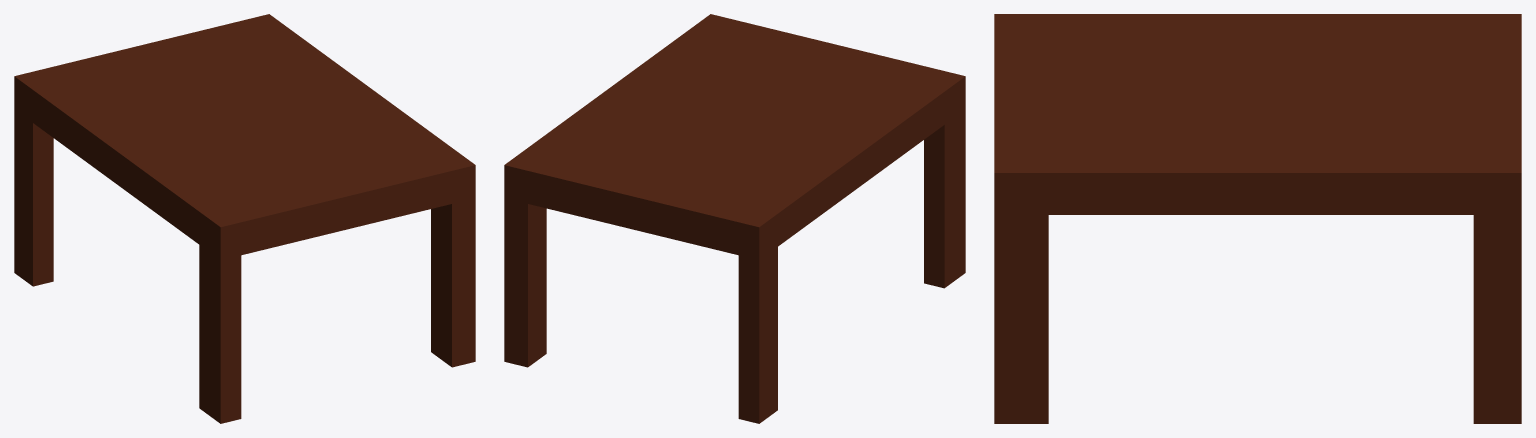
The model's file is stol2.fbx.
3 views of the same model, side by side, from view 1: azimuth 30°, elevation 25°; view 2: azimuth 150°, elevation 25°; view 3: azimuth 270°, elevation 25° (orthographic). The views are drawn at different scales.
Parts seen in each view (by area): view 1: Box431; view 2: Box431; view 3: Box431.
Part boxes in pixels (box(x1,y1,x2,y2)): Box431: box(14, 14, 475, 423); Box431: box(504, 14, 965, 423); Box431: box(994, 14, 1521, 423).
Bounding box in the file's own units: 18.05 × 13.3 × 25.3.
